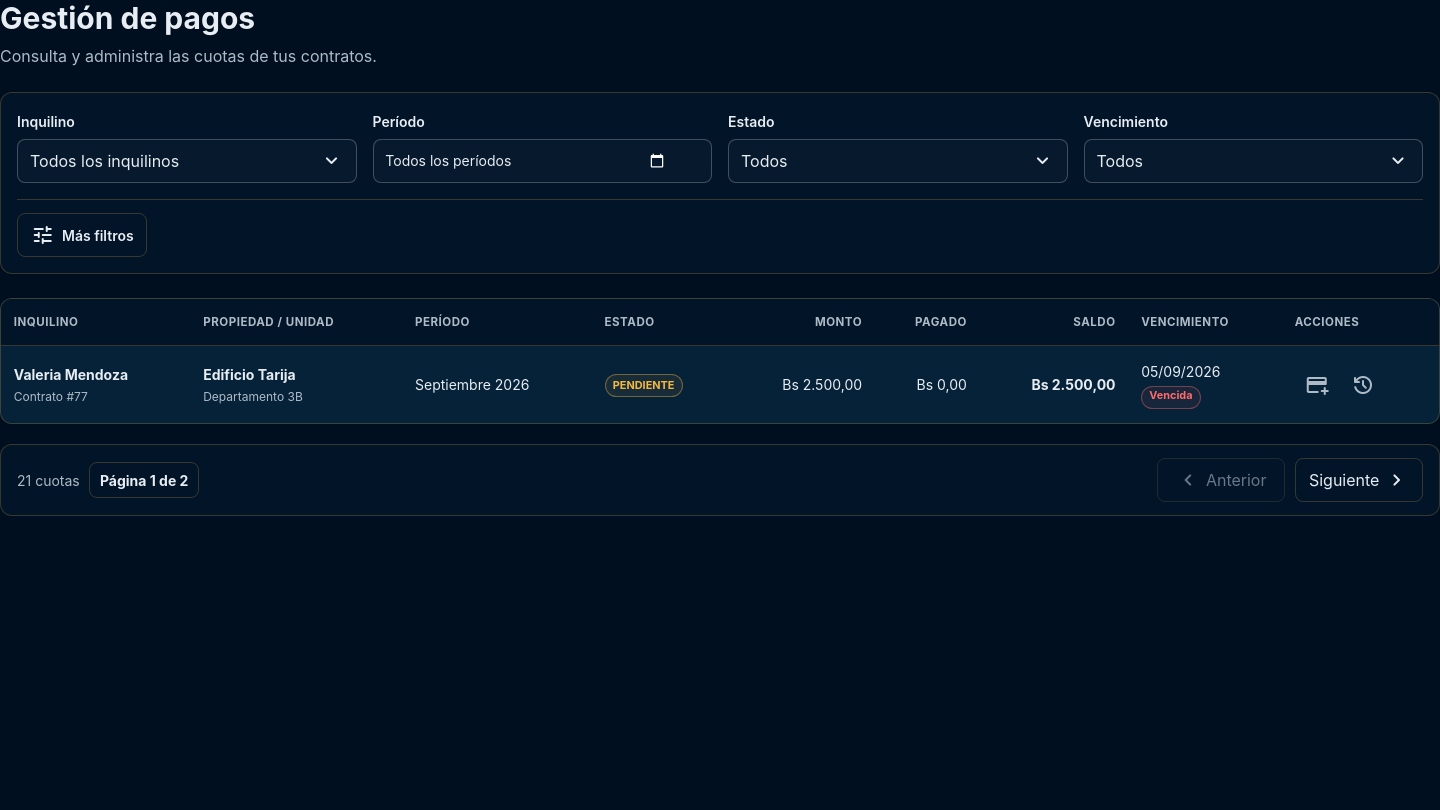
Test: PagosListComponent › opens payment for the selected quota, closes after 201, notifies, and refreshes the current page
This screenshot has width=1440, height=810.
Type "2026-09" into the field labelled "Período" at (542, 161), box [372, 139, 712, 183]
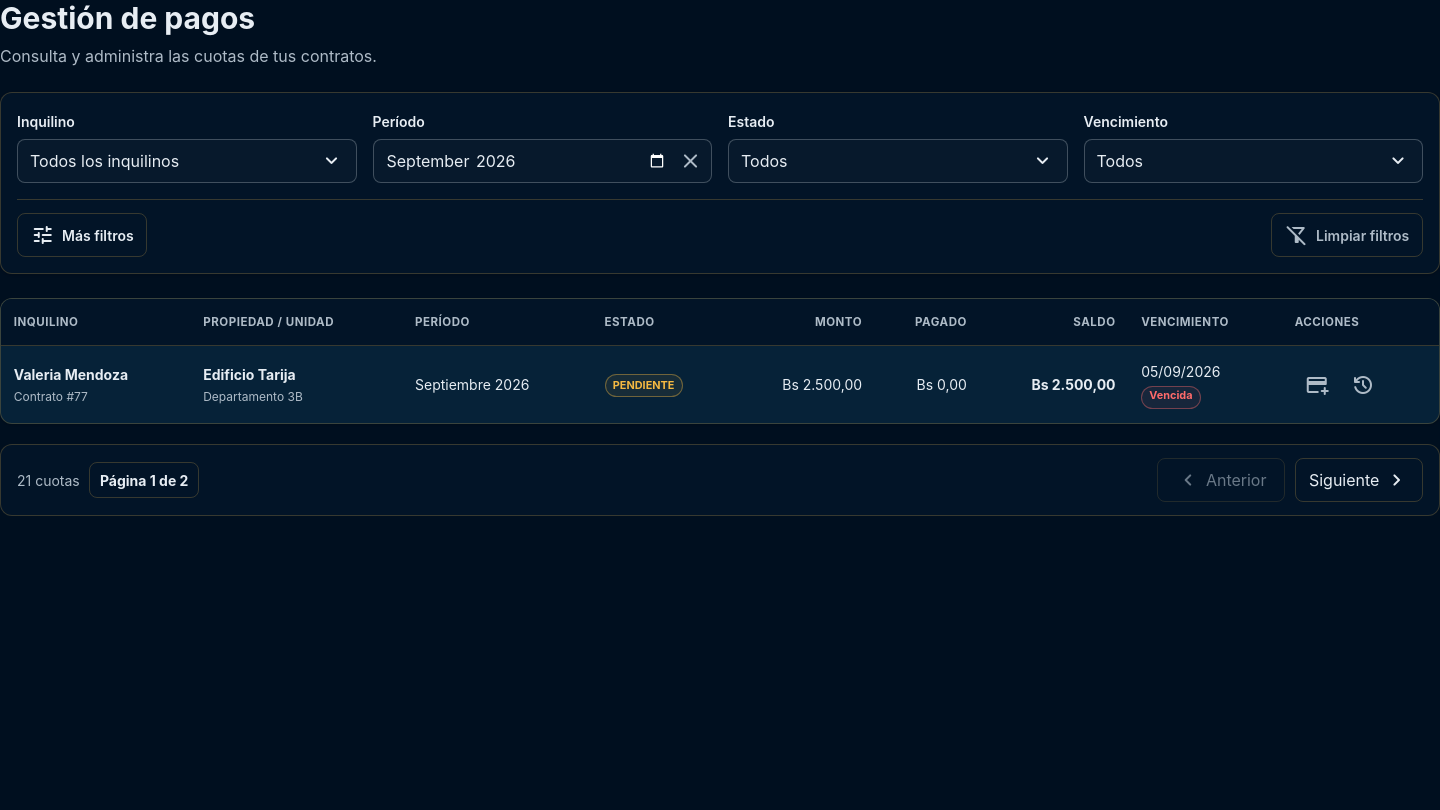
Click the button "Siguiente" at (1359, 480), box [1295, 458, 1423, 502]
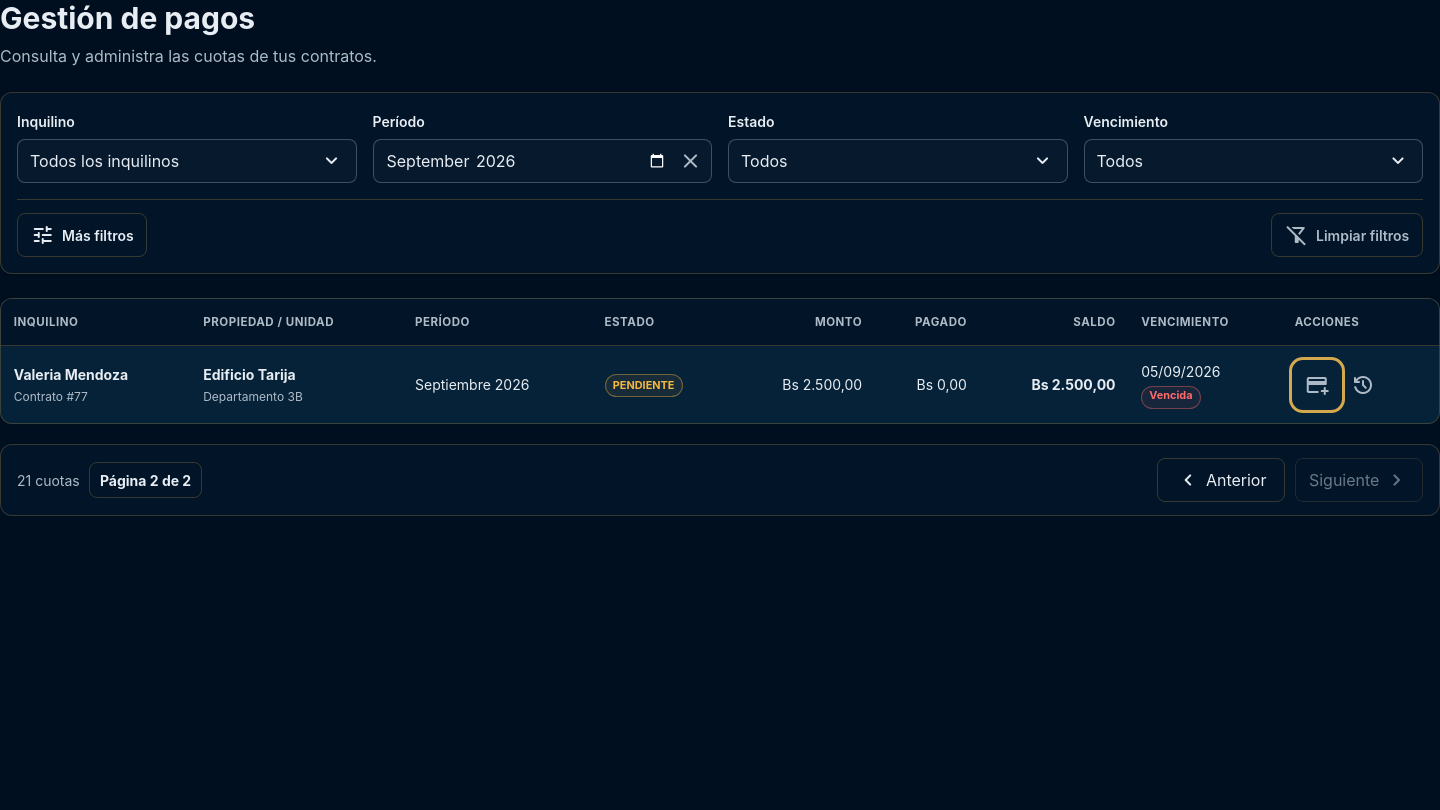
Click the button named "Registrar pago de la cuota 102" at (1317, 385), box [1295, 363, 1339, 407]
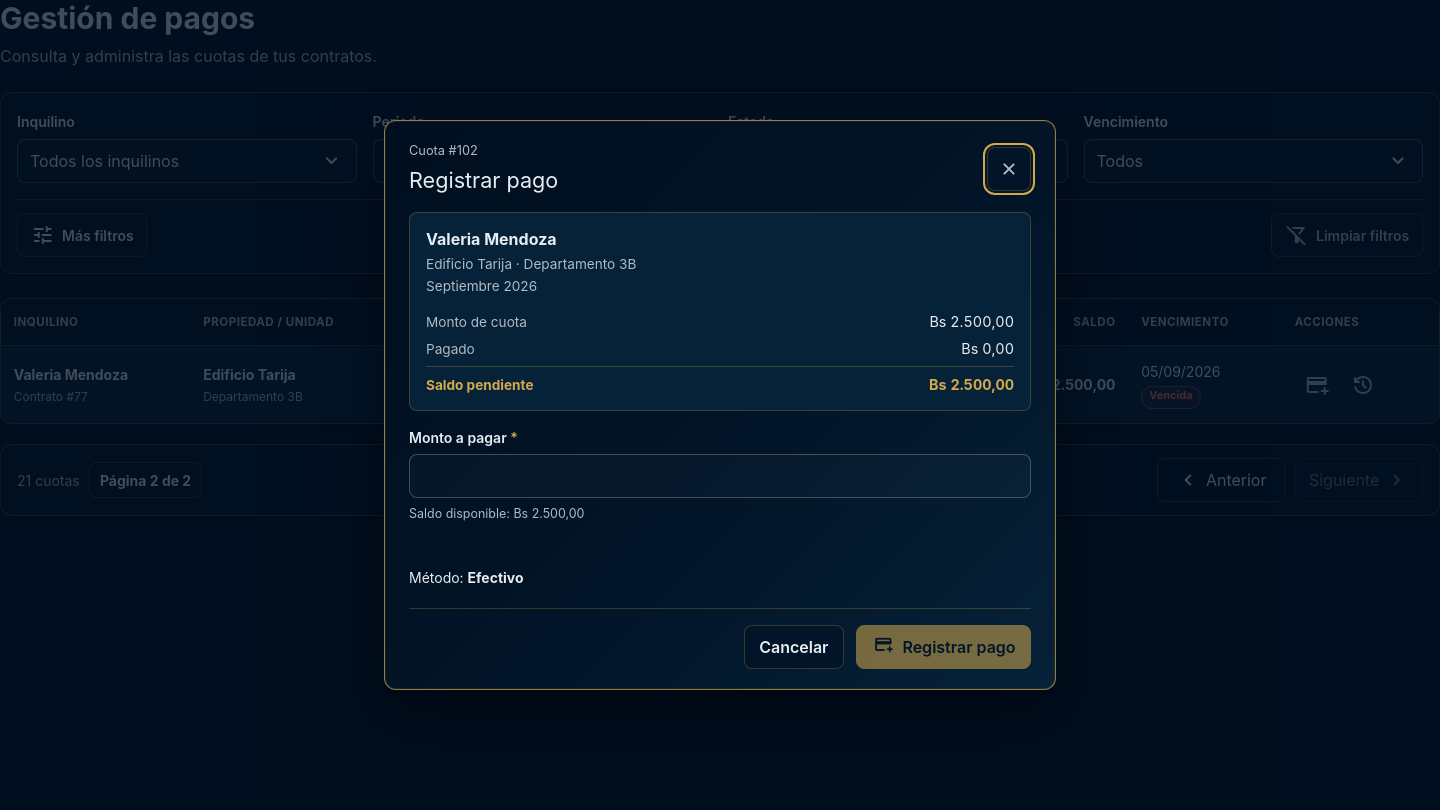
Expected: the text "Valeria Mendoza" is shown, [14, 366, 128, 383]
Expected: the dialog is shown, [384, 120, 1056, 690]
Expected: the text "Registrar pago" is shown, [409, 164, 558, 196]
Type "2500" into the field labelled "Monto a pagar *" at (720, 476), box [409, 454, 1031, 498]
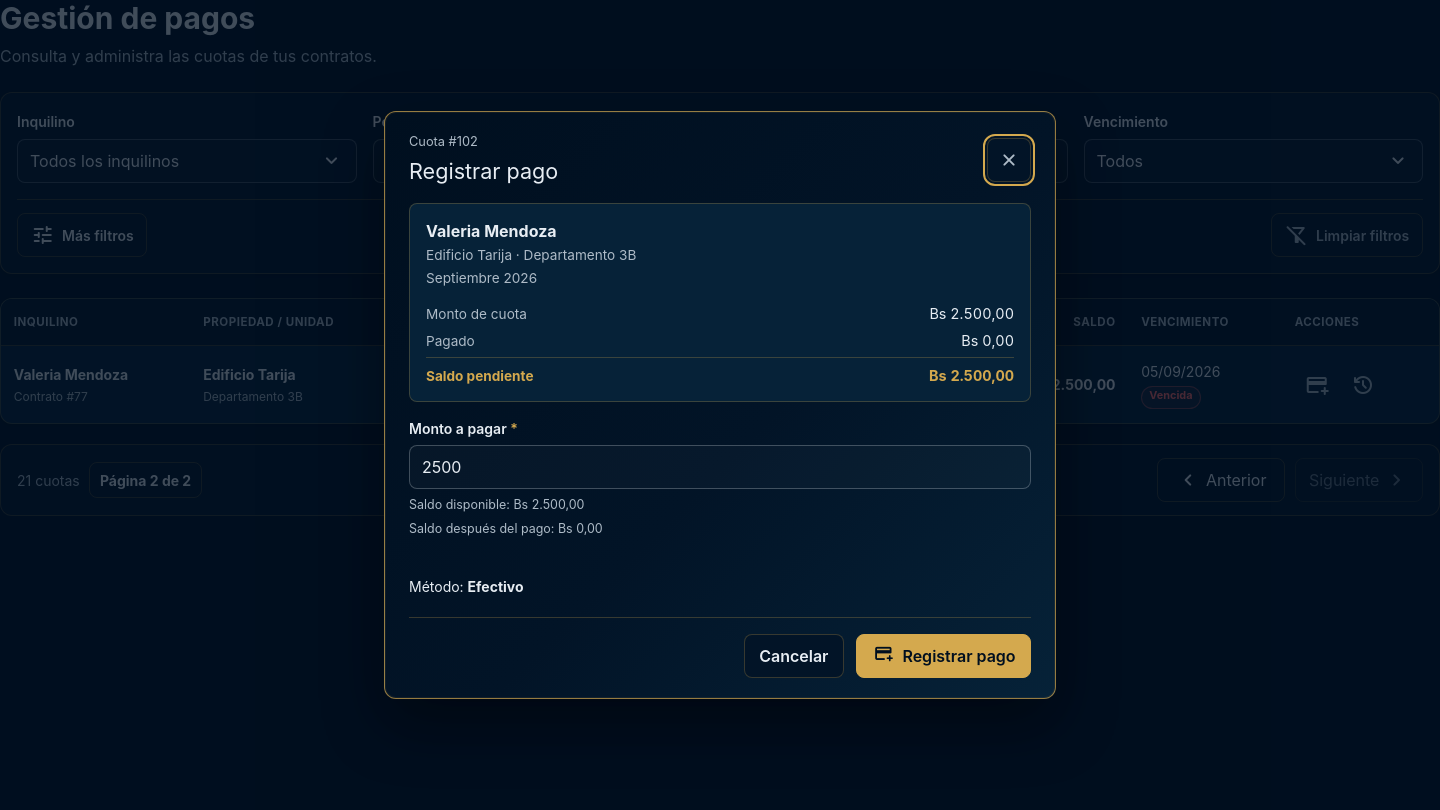
Click the button with id "register-payment-submit" at (943, 656), box [856, 634, 1031, 678]
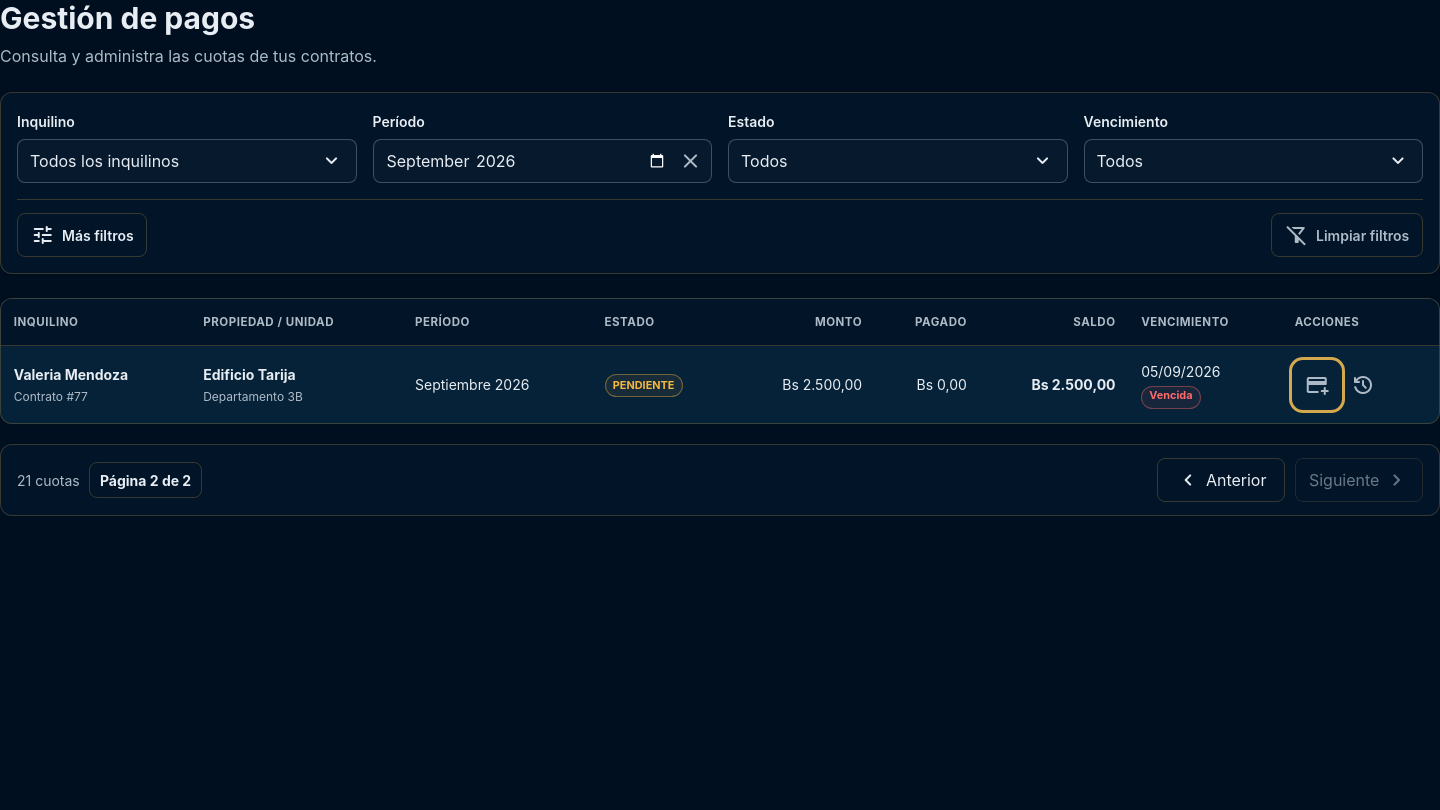
Expected: the text "Página 2 de 2" is shown, [89, 462, 202, 498]
Expected: the dialog is gone
